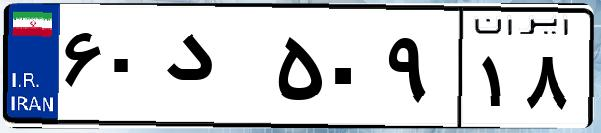0: (330, 28, 385, 110), (110, 28, 158, 98)
1: (475, 38, 525, 113)
5: (270, 28, 330, 110)
6: (57, 26, 110, 100)
8: (525, 38, 570, 115)
9: (385, 28, 445, 110)
د: (158, 20, 270, 120)
